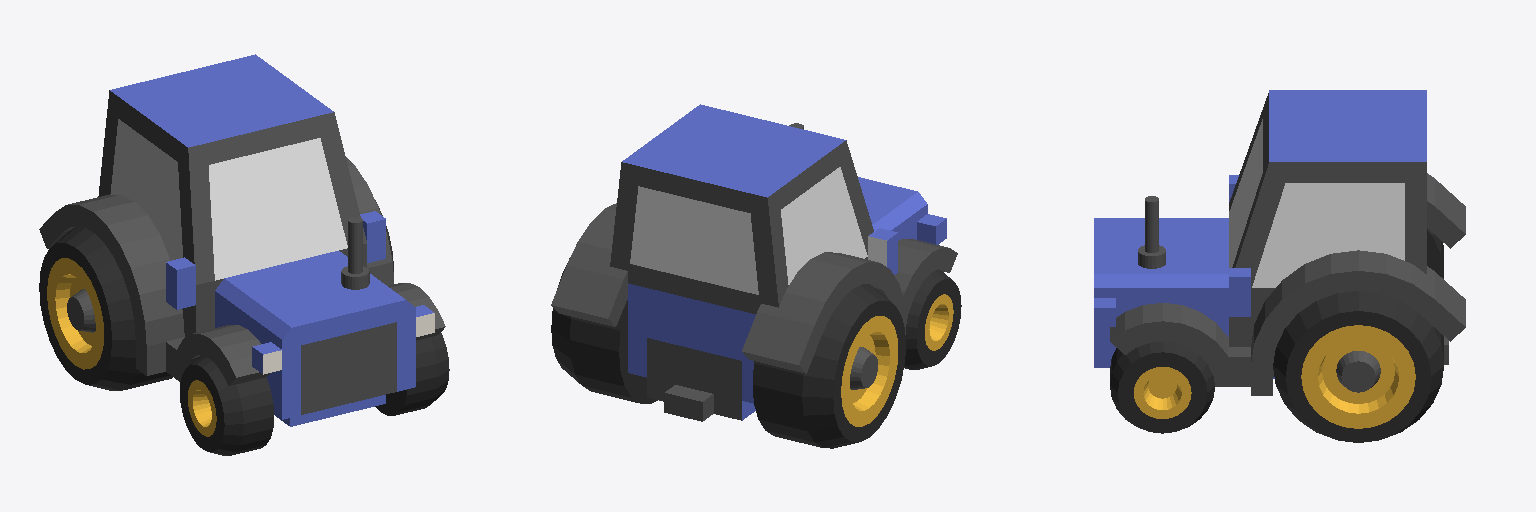
The model's file is tractor.obj.
3 renders of one model, left to right at view 1: azimuth 30°, elevation 25°; view 2: azimuth 150°, elevation 25°; view 3: azimuth 270°, elevation 25°, orthographic.
Parts seen in each view (by area): view 1: body, skirts, wheel_backRight, wheel_frontRight, wheel_frontLeft; view 2: body, skirts, wheel_backRight, wheel_backLeft, wheel_frontRight; view 3: body, wheel_backLeft, skirts, wheel_frontLeft, wheel_backRight.
Boxes of the visible parts, <box> form: body: <box>98,54,434,426</box>; skirts: <box>39,157,445,385</box>; wheel_backRight: <box>39,226,172,390</box>; wheel_frontRight: <box>180,355,273,455</box>; wheel_frontLeft: <box>375,333,449,415</box>; body: <box>610,104,946,421</box>; skirts: <box>551,203,957,373</box>; wheel_backRight: <box>753,284,905,448</box>; wheel_backLeft: <box>551,258,657,403</box>; wheel_frontRight: <box>904,269,961,369</box>; body: <box>1094,90,1448,378</box>; wheel_backLeft: <box>1273,291,1443,442</box>; skirts: <box>1110,173,1465,395</box>; wheel_frontLeft: <box>1110,341,1214,433</box>; wheel_backRight: <box>1427,228,1443,278</box>.
Size of the model in its own units: 65.38 by 57.56 by 74.69.